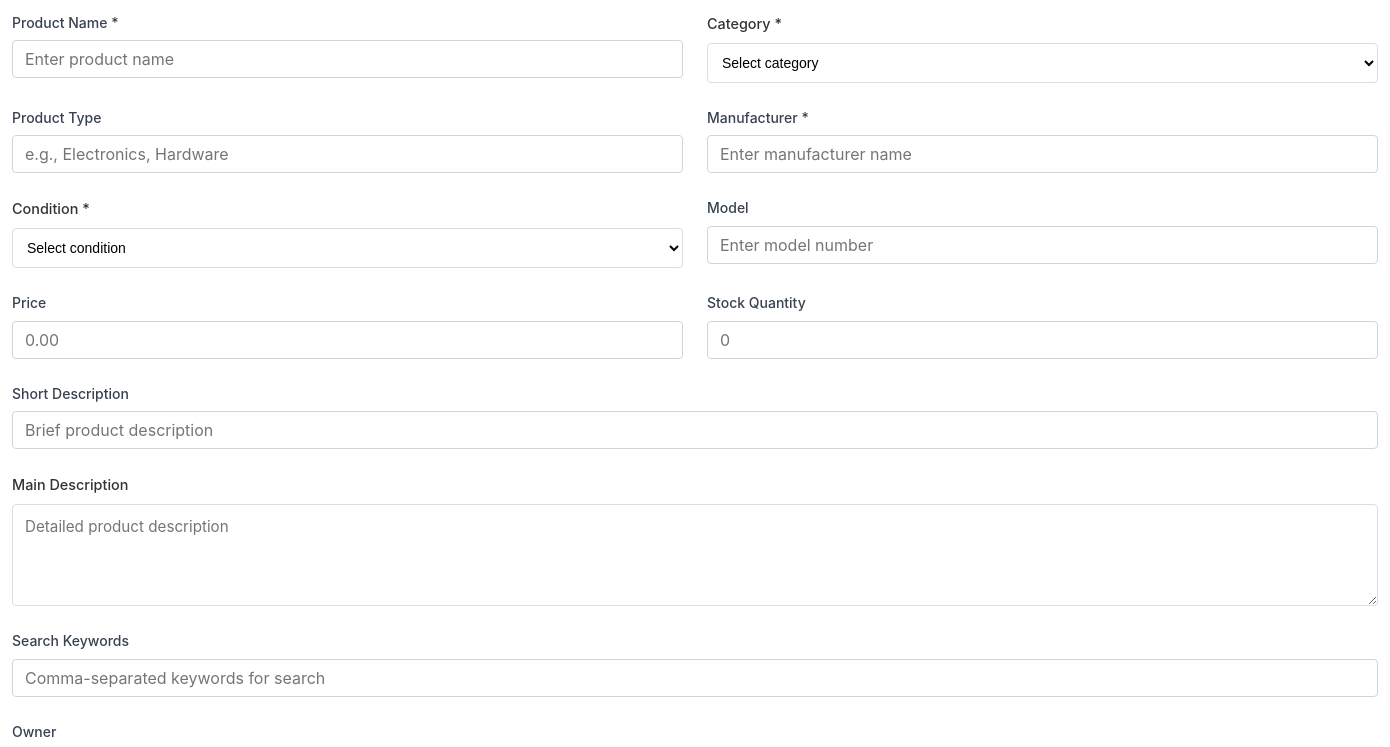
Scenario: ProductForm - Real-time Validation › should display validation error when required field loses focus with empty value
Check: the dropdown labelled "Category *" is shown, box [707,43,1378,83]
Focus and blur without entering value
Click the field labelled "Product Name *" at [348, 59], box [12,40,683,78]
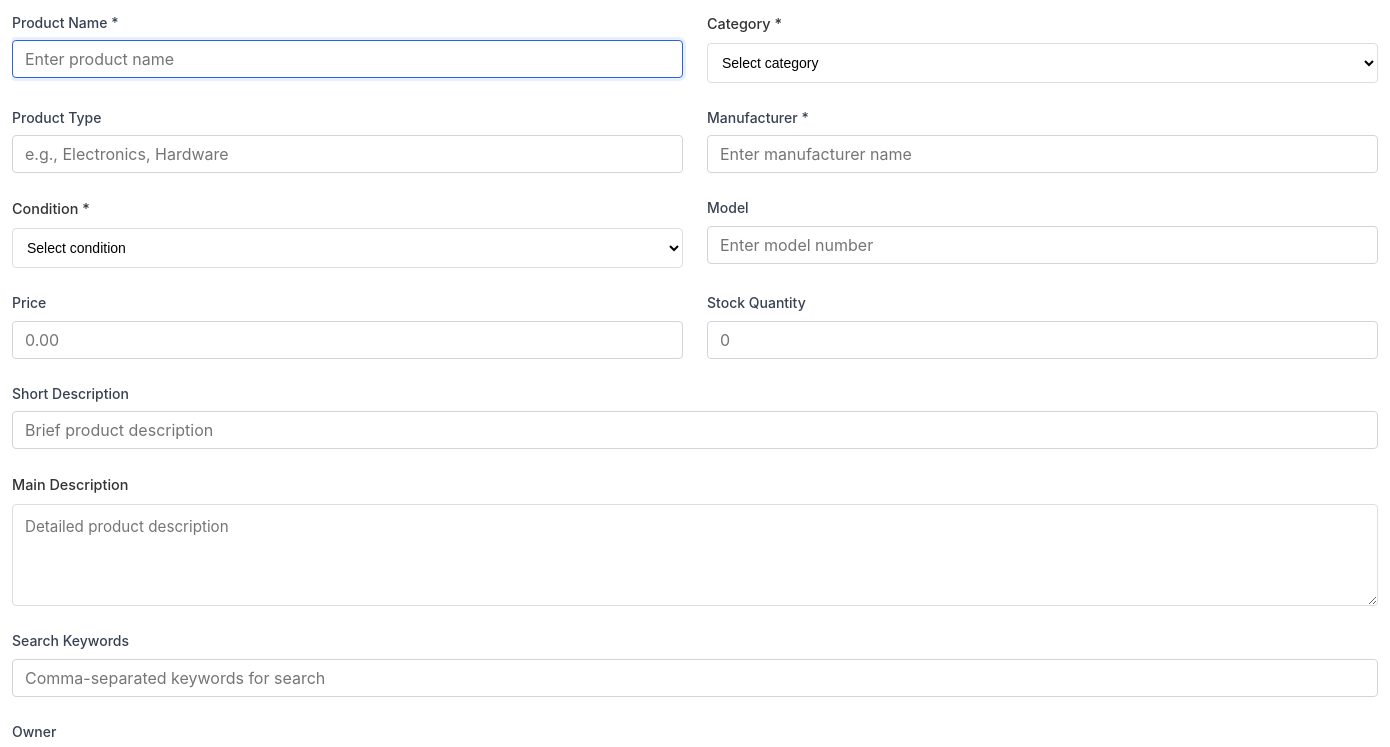
Press Tab
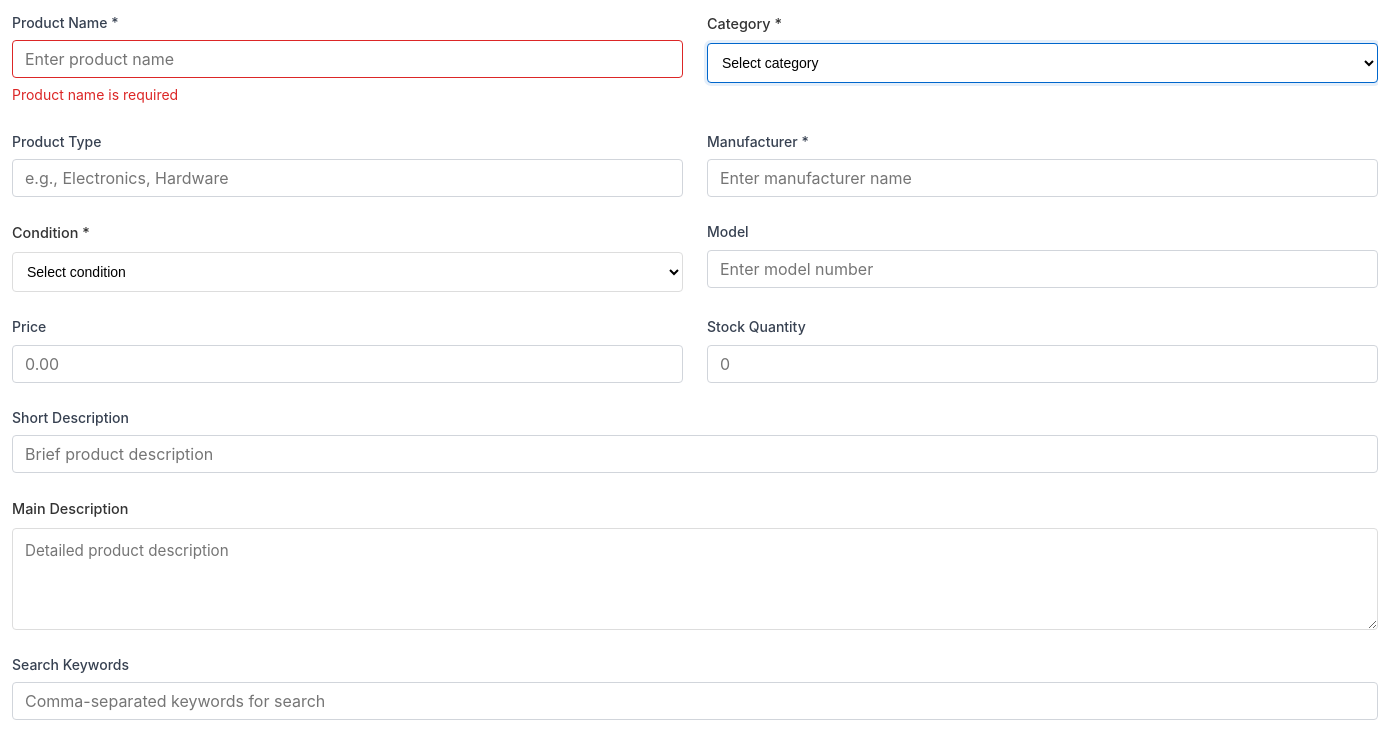
Check: the text "Product name is required" is shown, box [12,86,178,103]
